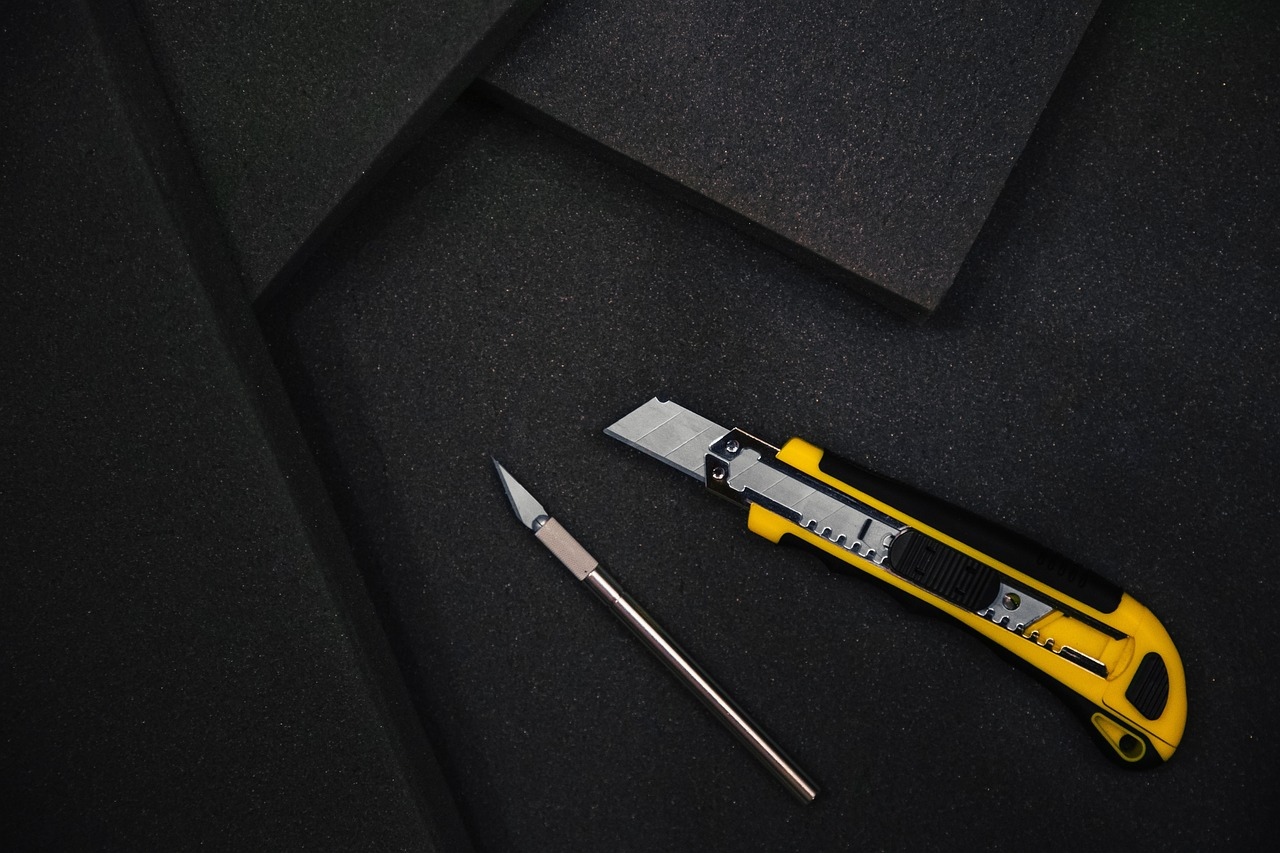knife: (581, 387, 1201, 785), (488, 448, 822, 804)
